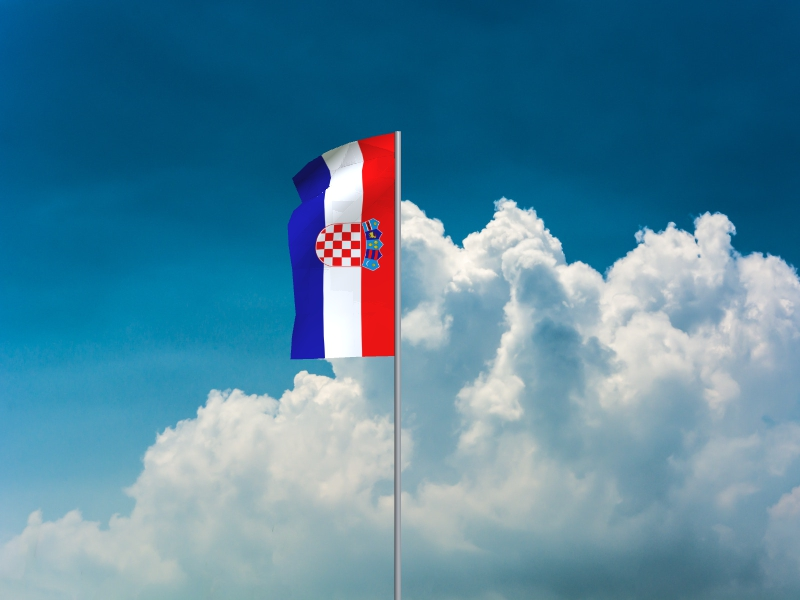hr: (287, 134, 395, 361)
